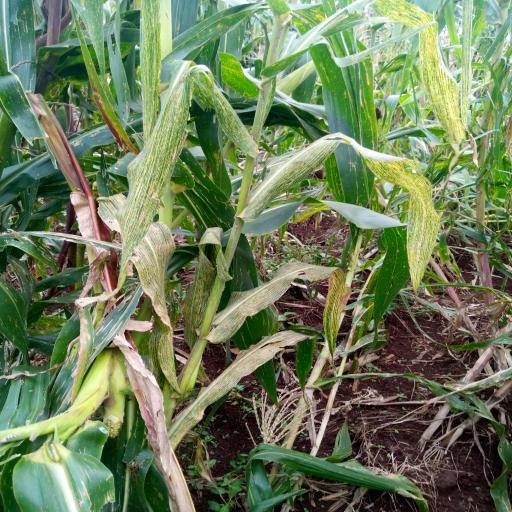Corn_Streak: (252, 117, 435, 299), (132, 60, 255, 294)
